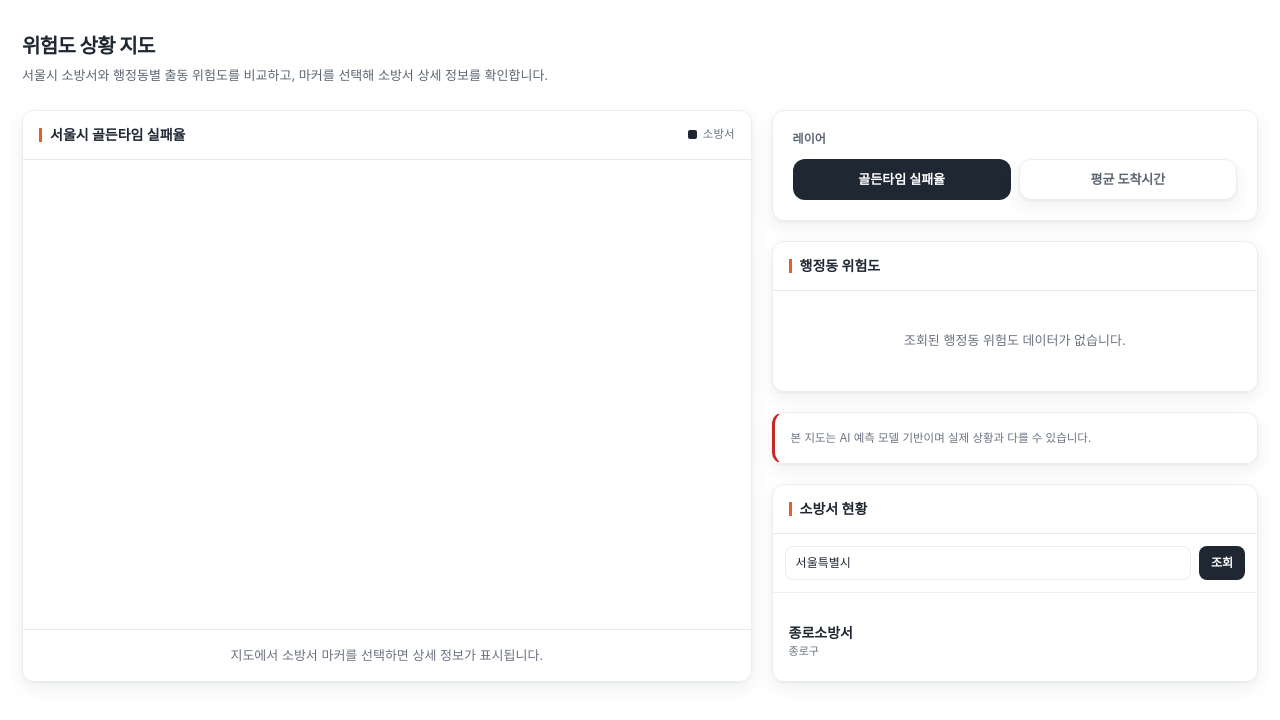
Test: DashboardView › 소방서 선택 후 상세 정보를 표시한다
The image size is (1280, 720).
Step 1. Click the button "종로소방서 종로구" → (821, 632), box [785,613,1245,669]
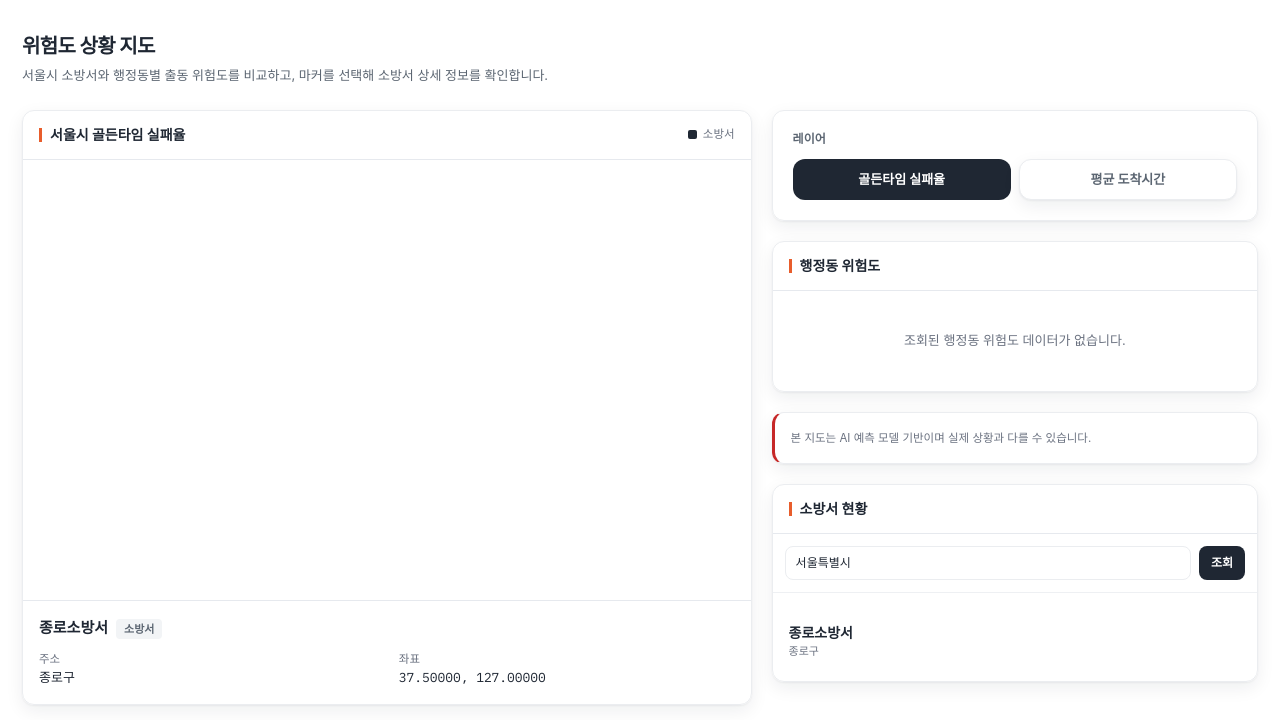
Check: the text "37.50000, 127.00000" is shown, box [399,669,546,686]
